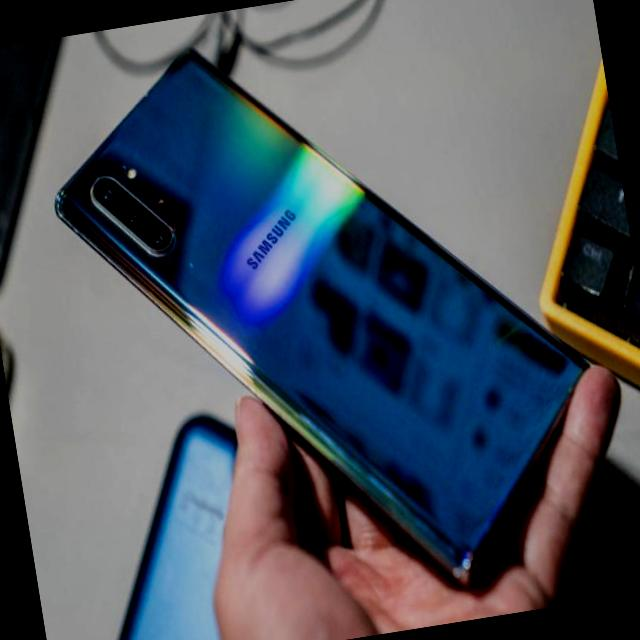lens_back: (89, 174, 128, 213), (140, 220, 176, 256), (118, 201, 150, 233)
phone: (27, 0, 623, 640)
